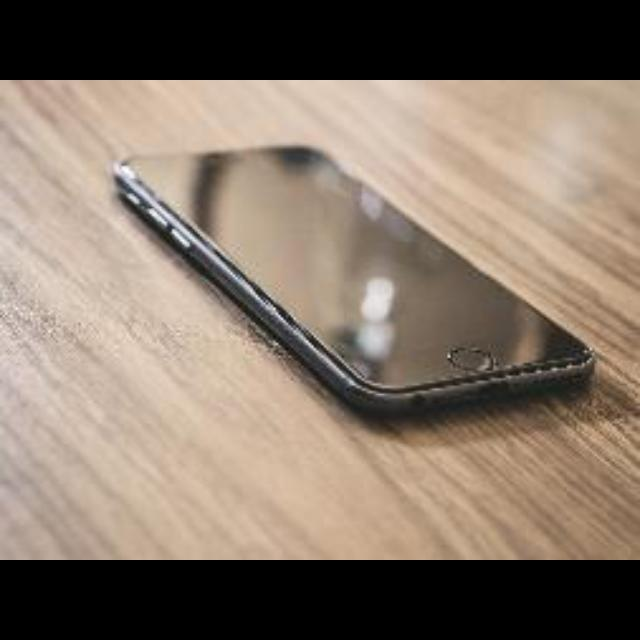phone: (86, 92, 608, 476)
